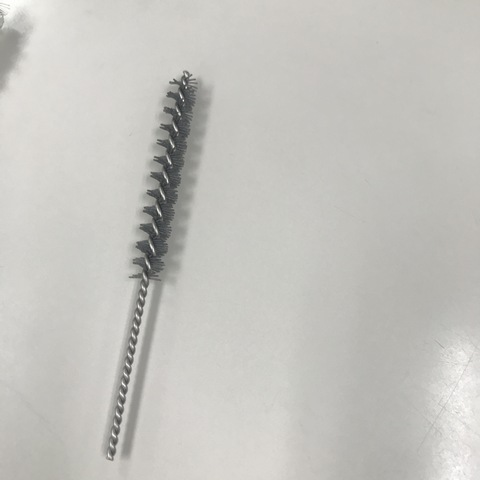Twist Brush-A: (96, 69, 221, 463)
